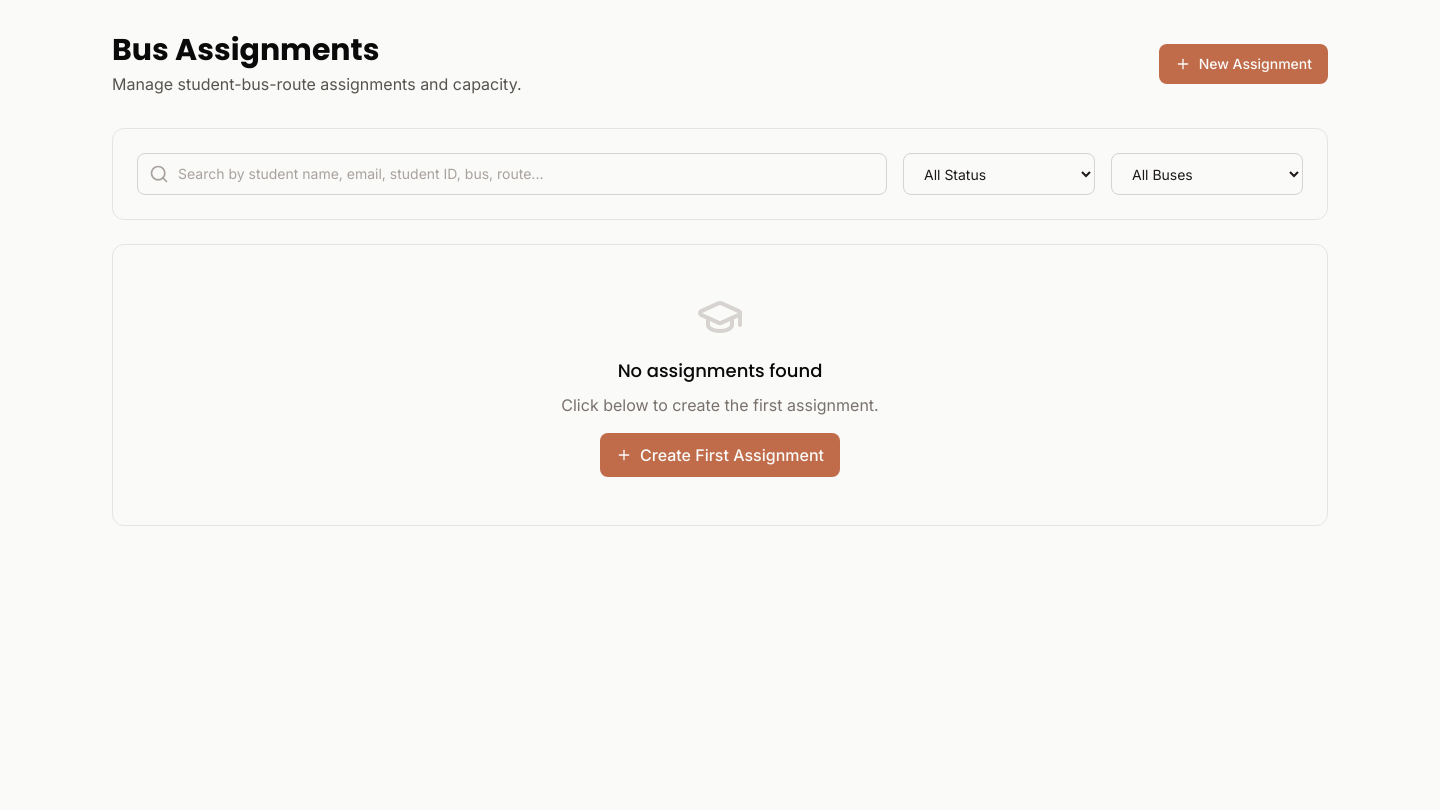
Scenario: TeacherAssignmentsPage Functional Tests › opens New Assignment modal and populates student/bus/route options
Click the button "New Assignment".
click(1243, 64)  # box [1159,44,1328,84]
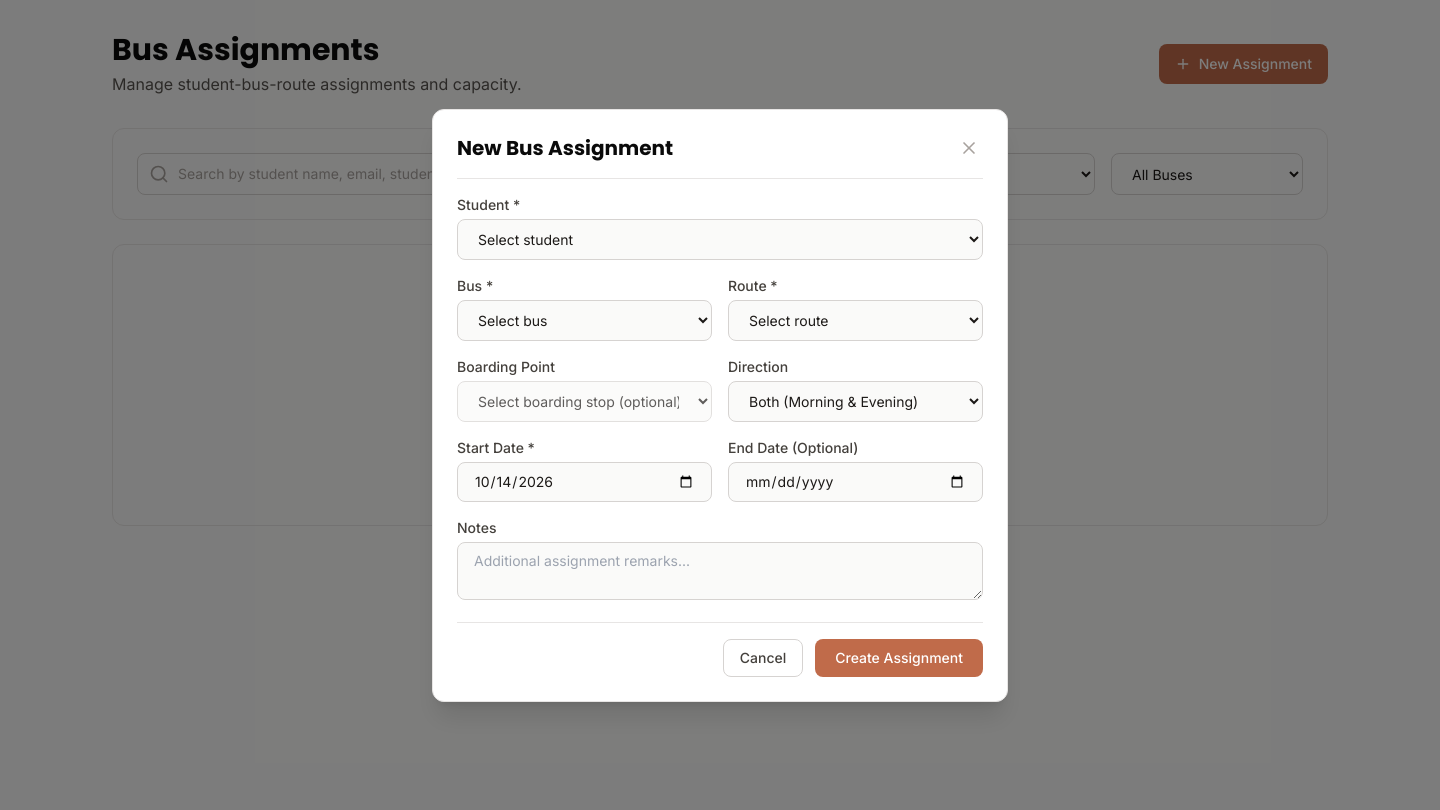
Expected: the heading "New Bus Assignment" is shown, [457,134,673,162]
Expected: the button "Create Assignment" is shown, [815,638,983,676]
